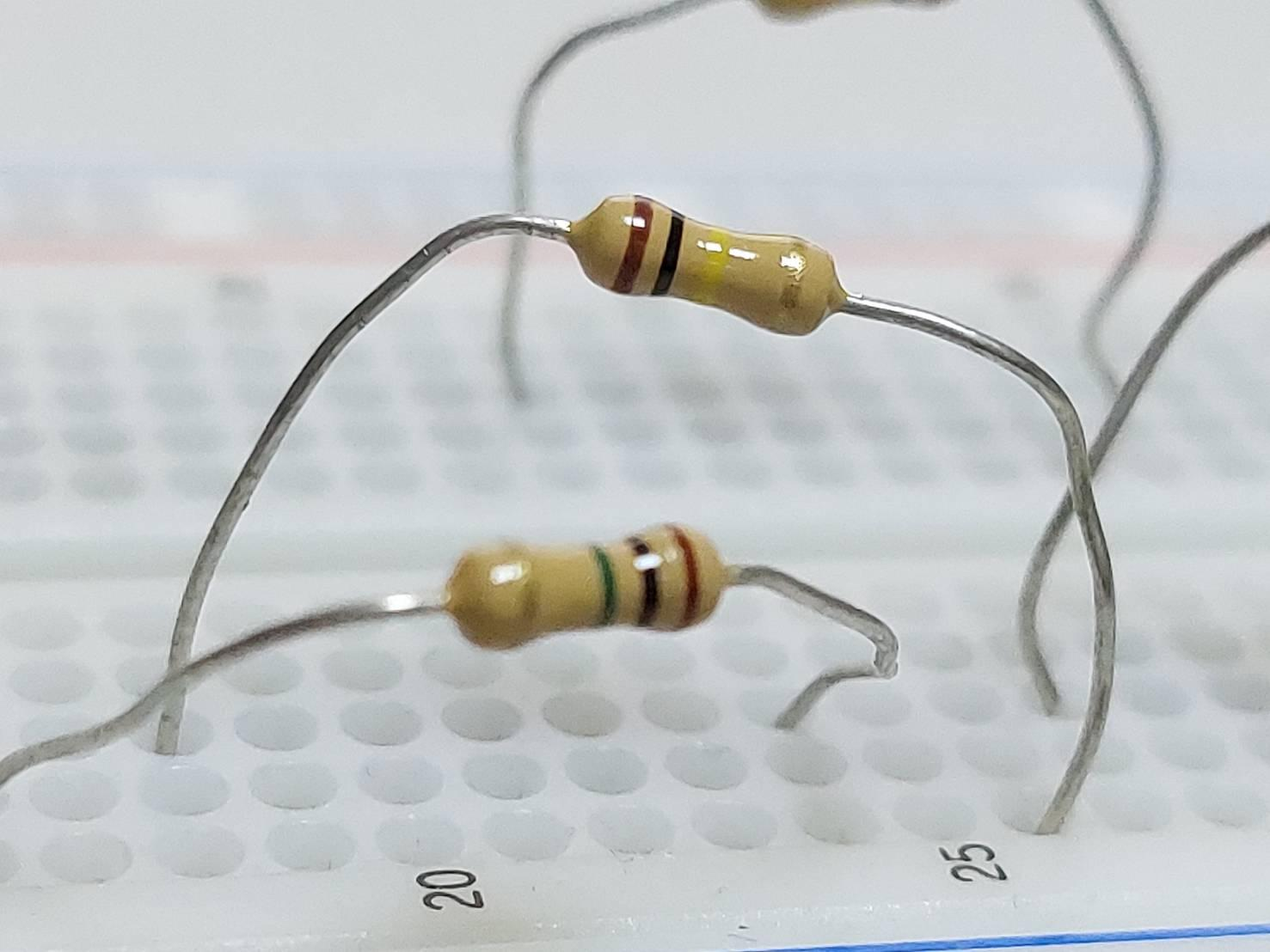resistor: (570, 190, 839, 338), (445, 521, 728, 646)
